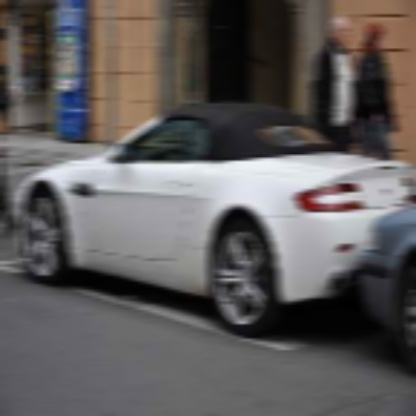Vehicle: (21, 102, 415, 341)
